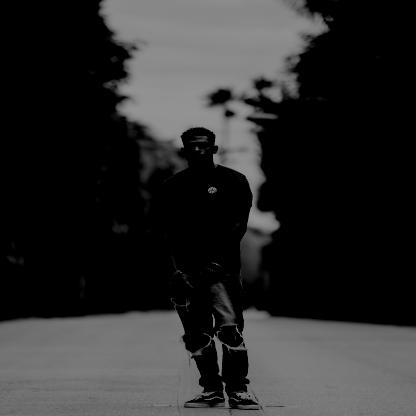dress: (162, 166, 254, 267)
